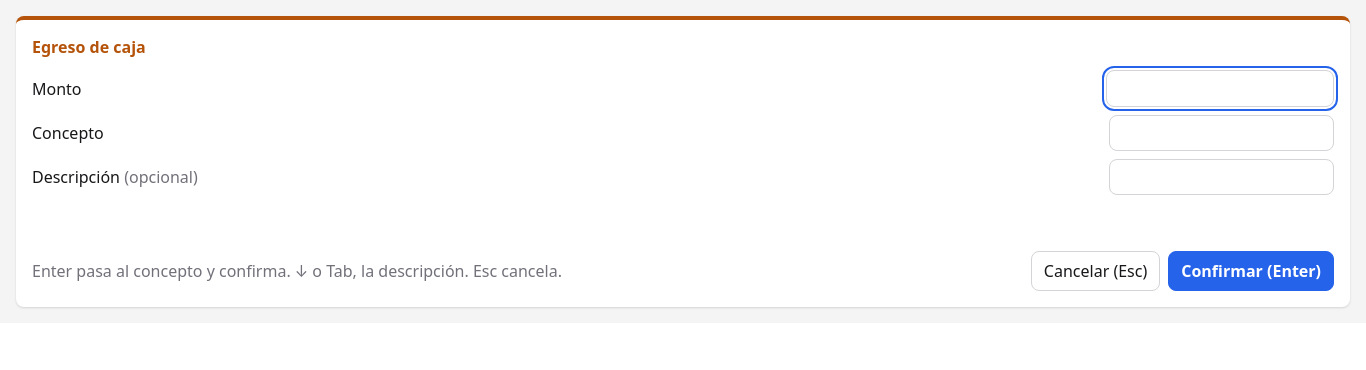
Test: CashScreen › un egreso mayor que el saldo se advierte sin bloquear
Type "600" into the field labelled "Monto". click: {"x": 1220, "y": 88}
box: [1106,70,1334,107]
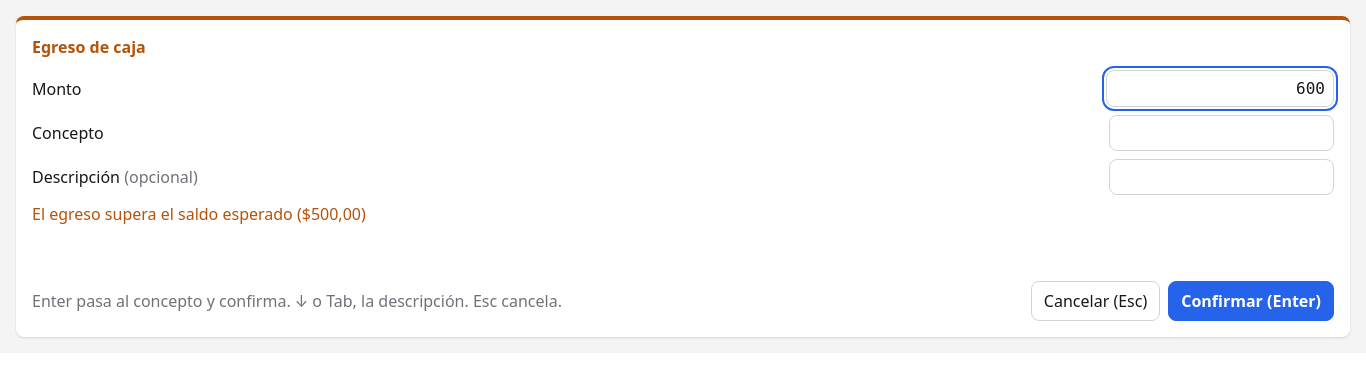
Result: the text "El egreso supera el saldo esperado ($500,00)" is shown at [32,203,366,225]
